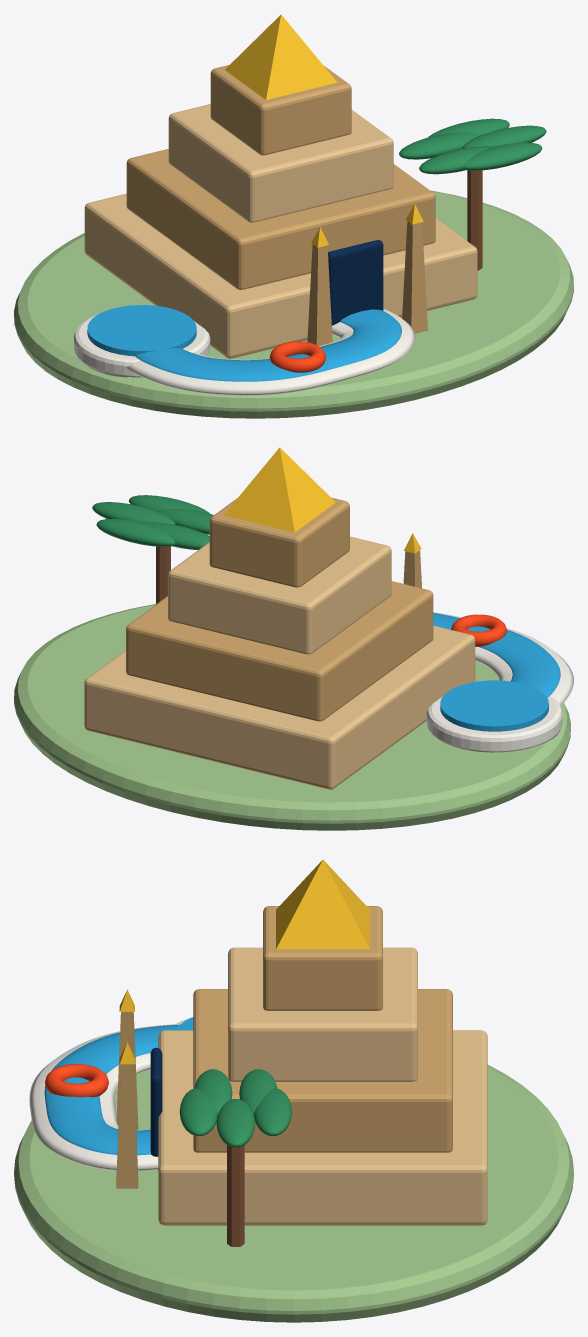
Rendered from 07-lost-river-of-the-pharaohs.glb.
3 renders of one model, top to bottom at view 1: azimuth 30°, elevation 25°; view 2: azimuth 150°, elevation 25°; view 3: azimuth 270°, elevation 25°, orthographic. The views are drawn at different scales.
Parts seen in each view (by area): view 1: Base.006, Step, Step.001, Step.002, Step.003, Lost River, Lost River Bank, Cap, Lagoon, Doorway, Obelisk.001, Lagoon Bank (+8 smaller); view 2: Base.006, Step, Step.001, Step.002, Step.003, Cap, Lagoon, Lagoon Bank, Lost River, Lost River Bank, Frond.001, Frond (+6 smaller); view 3: Base.006, Step, Step.001, Step.002, Step.003, Cap, Lost River, Lost River Bank, Obelisk.001, Palm Trunk, River Raft, Frond (+6 smaller).
Boxes of the visible parts, x1,y1,x2,y2 form: Base.006: [14, 190, 573, 418]; Step: [84, 193, 477, 358]; Step.001: [126, 149, 435, 289]; Step.002: [168, 104, 393, 222]; Step.003: [210, 65, 351, 155]; Lost River: [135, 309, 401, 381]; Lost River Bank: [126, 309, 415, 395]; Cap: [225, 14, 337, 99]; Lagoon: [87, 305, 196, 356]; Doorway: [328, 240, 383, 325]; Obelisk.001: [402, 221, 427, 333]; Lagoon Bank: [74, 312, 210, 377]; Base.006: [14, 604, 570, 830]; Step: [84, 625, 475, 789]; Step.001: [126, 581, 433, 721]; Step.002: [168, 536, 391, 654]; Step.003: [209, 497, 349, 587]; Cap: [224, 447, 335, 532]; Lagoon: [440, 680, 548, 731]; Lagoon Bank: [426, 696, 562, 752]; Lost River: [433, 613, 560, 697]; Lost River Bank: [433, 612, 573, 705]; Frond.001: [96, 518, 175, 546]; Frond: [92, 502, 175, 524]; Base.006: [14, 1064, 573, 1322]; Step: [158, 1030, 487, 1225]; Step.001: [193, 989, 452, 1152]; Step.002: [228, 947, 417, 1081]; Step.003: [263, 906, 382, 1010]; Cap: [276, 859, 369, 949]; Lost River: [44, 1024, 179, 1155]; Lost River Bank: [29, 1024, 174, 1170]; Obelisk.001: [116, 1064, 138, 1188]; Palm Trunk: [227, 1145, 244, 1246]; River Raft: [45, 1064, 108, 1097]; Frond: [216, 1099, 255, 1147].
Bounding box in the file's own units: 3.4 × 1.88 × 2.89.
